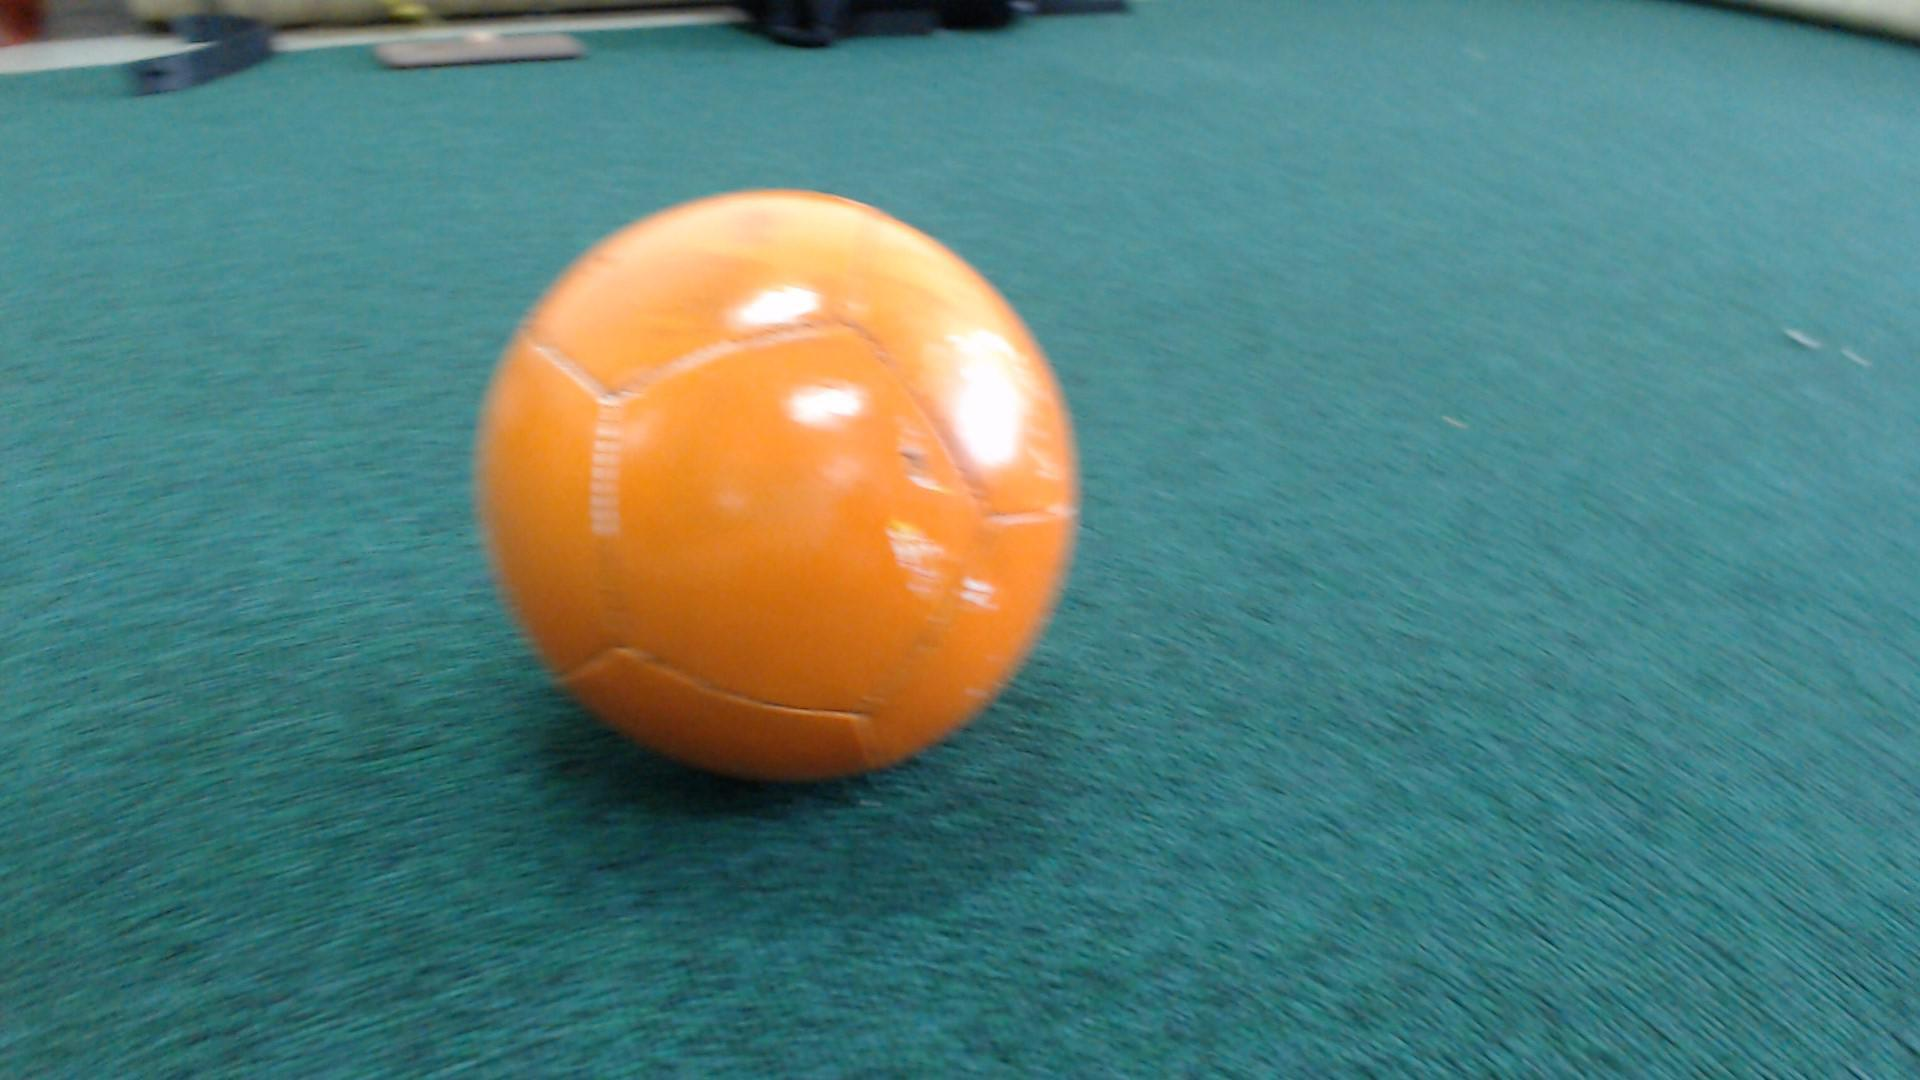bola: (442, 182, 1112, 822)
